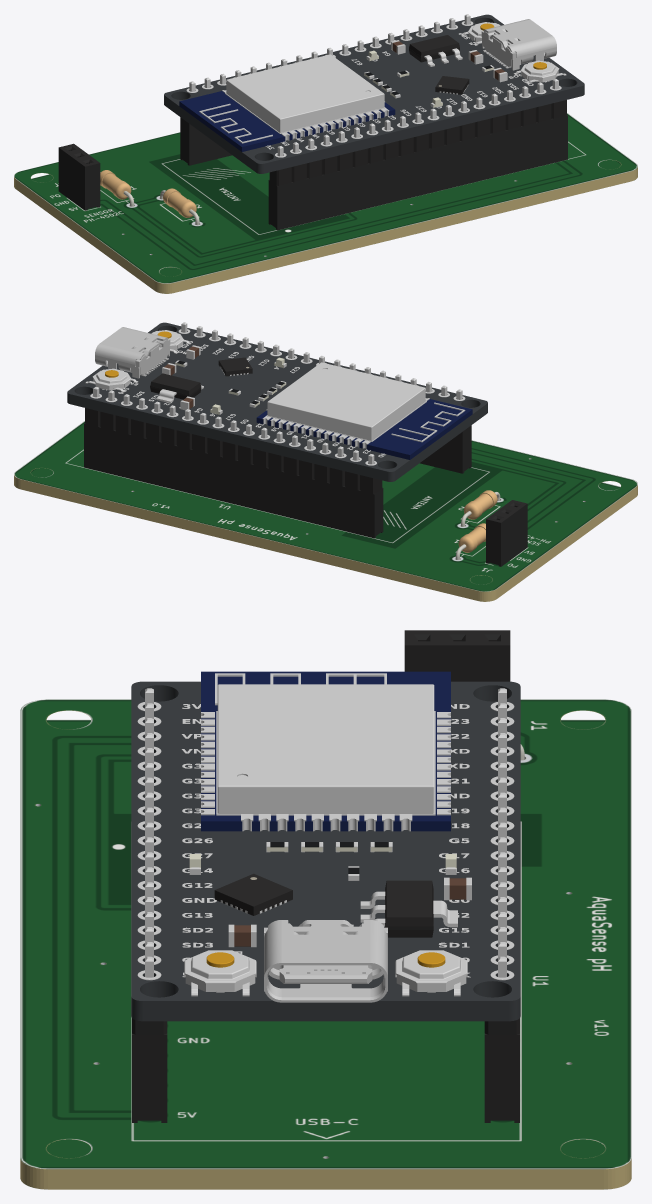
Rendered from AquaSensePh.glb.
3 renders of one model, top to bottom at view 1: azimuth 30°, elevation 25°; view 2: azimuth 150°, elevation 25°; view 3: azimuth 270°, elevation 25°, orthographic. The views are drawn at different scales.
Visible parts, largest first — view 1: U1, PCB_top, PCB, J1, R2, R1, PCB_bottom; view 2: U1, PCB_top, PCB, J1, R2, R1, PCB_bottom; view 3: PCB_top, U1, PCB, J1, PCB_bottom.
Boxes of the visible parts, x1,y1,x2,y2 form: U1: (164,14,584,230); PCB_top: (14,113,637,283); PCB: (14,160,637,293); J1: (58,143,100,210); R2: (160,188,199,224); R1: (100,170,134,206); PCB_bottom: (14,160,634,293); U1: (67,322,487,538); PCB_top: (14,421,637,591); PCB: (14,468,637,601); J1: (486,500,527,566); R2: (461,490,500,526); R1: (455,523,485,559); PCB_bottom: (17,468,637,601); PCB_top: (20,699,631,1169); U1: (131,671,520,1122); PCB: (20,710,631,1189); J1: (404,630,510,681); PCB_bottom: (27,719,624,1189).
Size of the model in its own units: 80 by 17.55 by 44.
480 materials, 2 textured.
